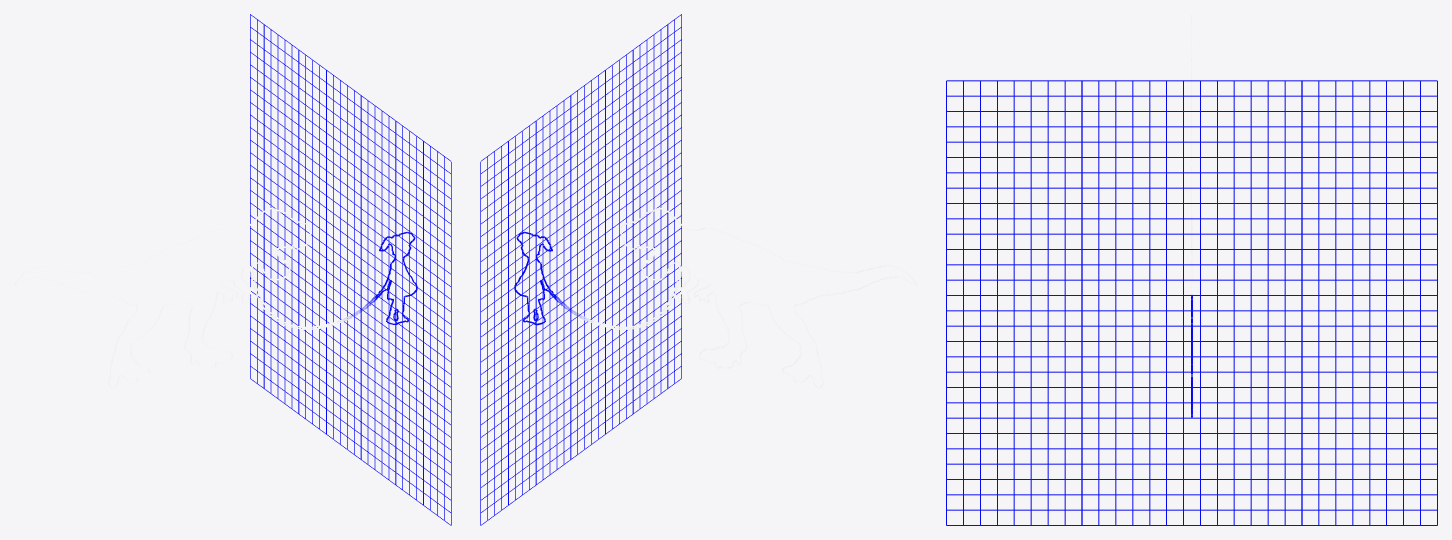
3 views of the same model, side by side, from view 1: azimuth 30°, elevation 25°; view 2: azimuth 150°, elevation 25°; view 3: azimuth 270°, elevation 25° (orthographic). The views are drawn at different scales.
Bounding box in the file's own units: 1.64 × 1.42 × 1.42.
